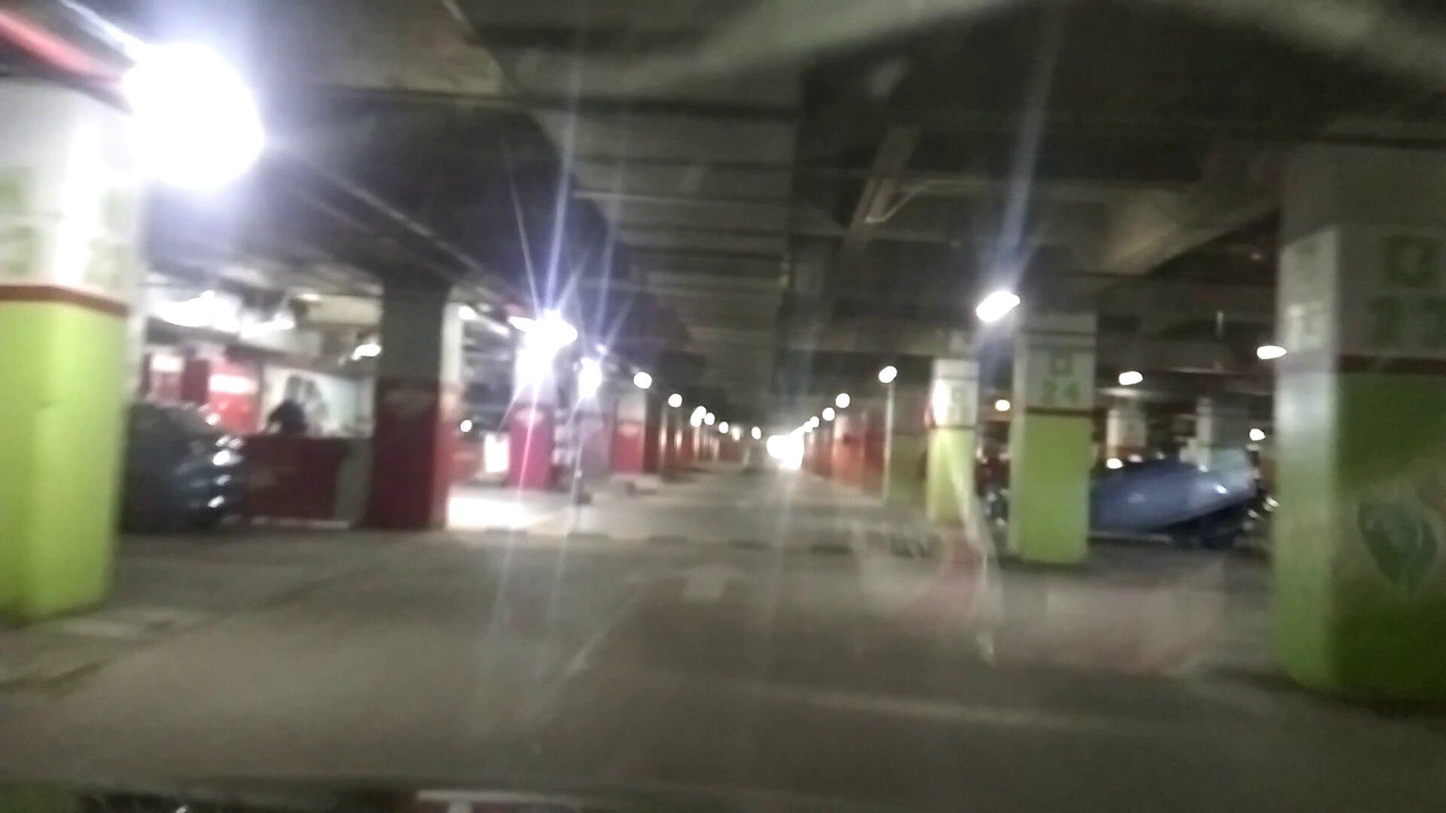Bump: (437, 510, 955, 561)
